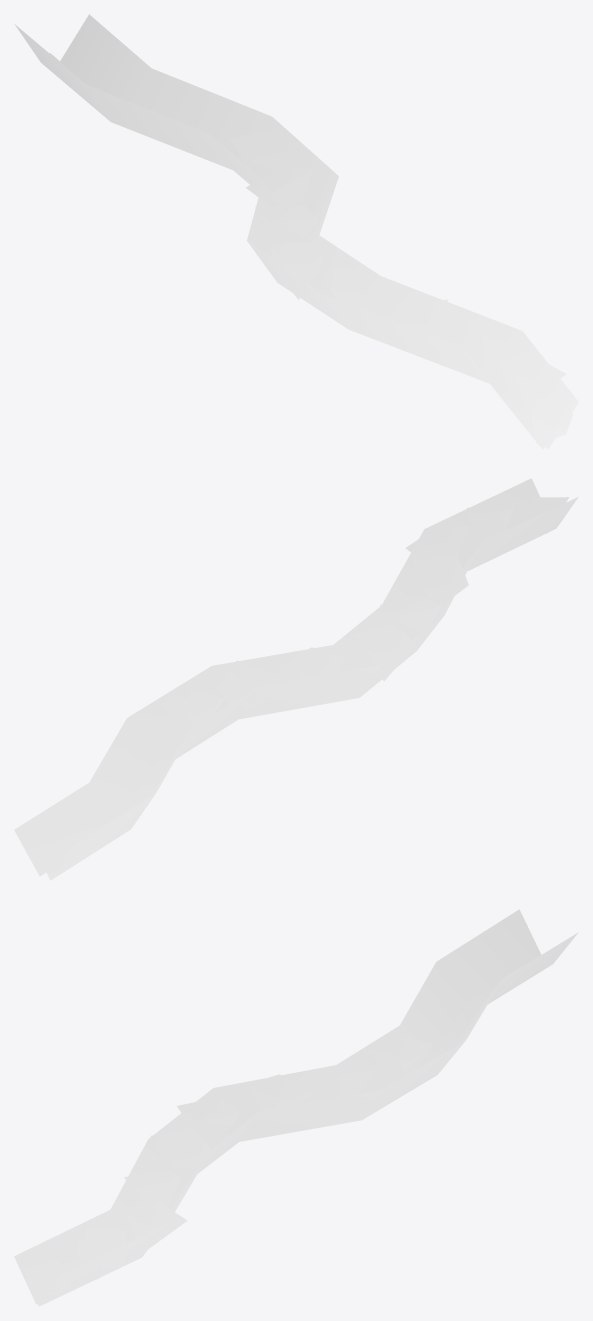
Rendered from SM_Env_Creeper_Vine_01.glb.
3 renders of one model, top to bottom at view 1: azimuth 30°, elevation 25°; view 2: azimuth 150°, elevation 25°; view 3: azimuth 330°, elevation 25°, orthographic. The views are drawn at different scales.
Parts seen in each view (by area): view 1: SM_Env_Creeper_Vine_01; view 2: SM_Env_Creeper_Vine_01; view 3: SM_Env_Creeper_Vine_01.
Part boxes in pixels (box(x1,y1,x2,y2)): SM_Env_Creeper_Vine_01: box(14, 14, 578, 449); SM_Env_Creeper_Vine_01: box(14, 478, 578, 880); SM_Env_Creeper_Vine_01: box(14, 909, 578, 1306).
Size of the model in its own units: 0.496 by 0.1751 by 2.94.
1 material, 1 textured.
